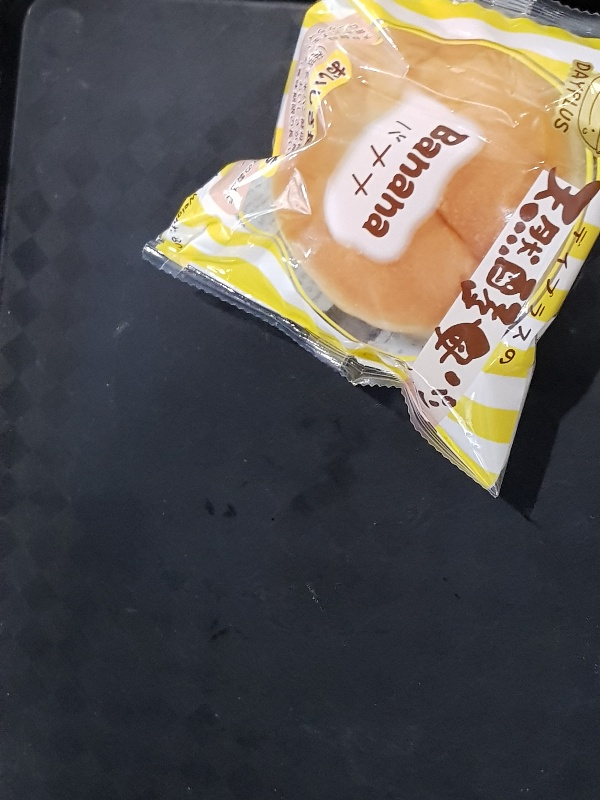Dayplus Banana: (139, 1, 600, 505)
